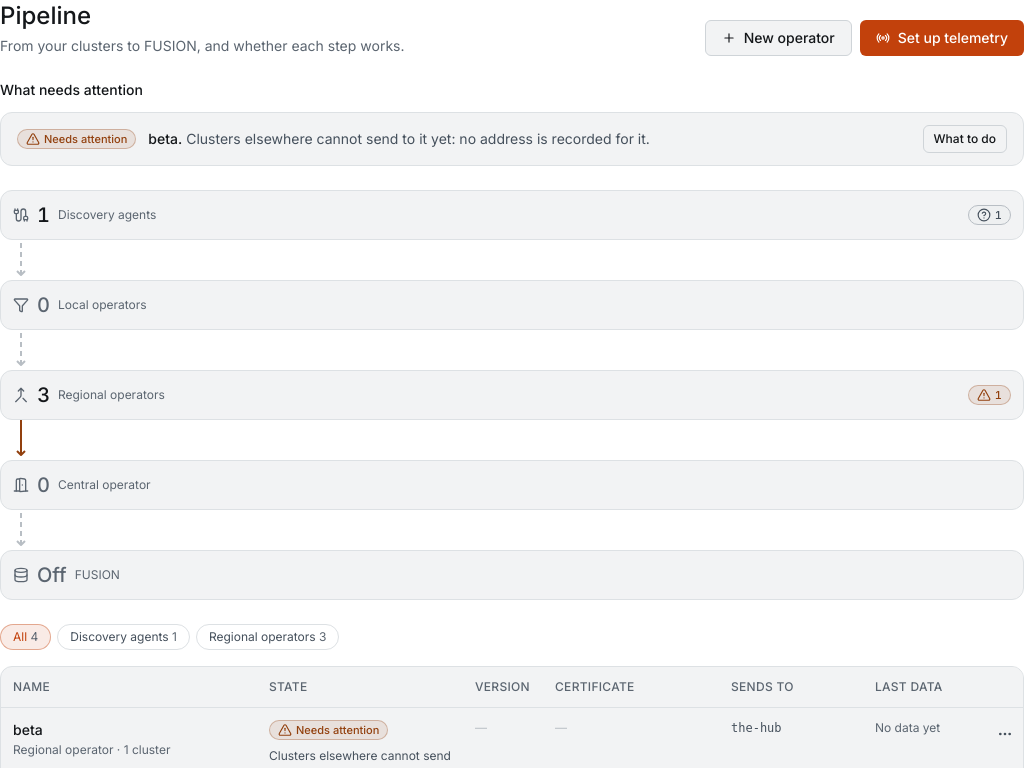
PipelinePage › where an operator sends is a column: FUSION by that name, another operator by its name; its address has a copy button, and a missing one is something to do
This screenshot has width=1024, height=768.
Expected: the element with test id "pipeline-attention" shows "beta. Clusters elsewhere cannot send to it yet", [0, 80, 1023, 166]
Click the button with aria-label "What to do about beta" at {"x": 965, "y": 139}, box [923, 125, 1007, 153]
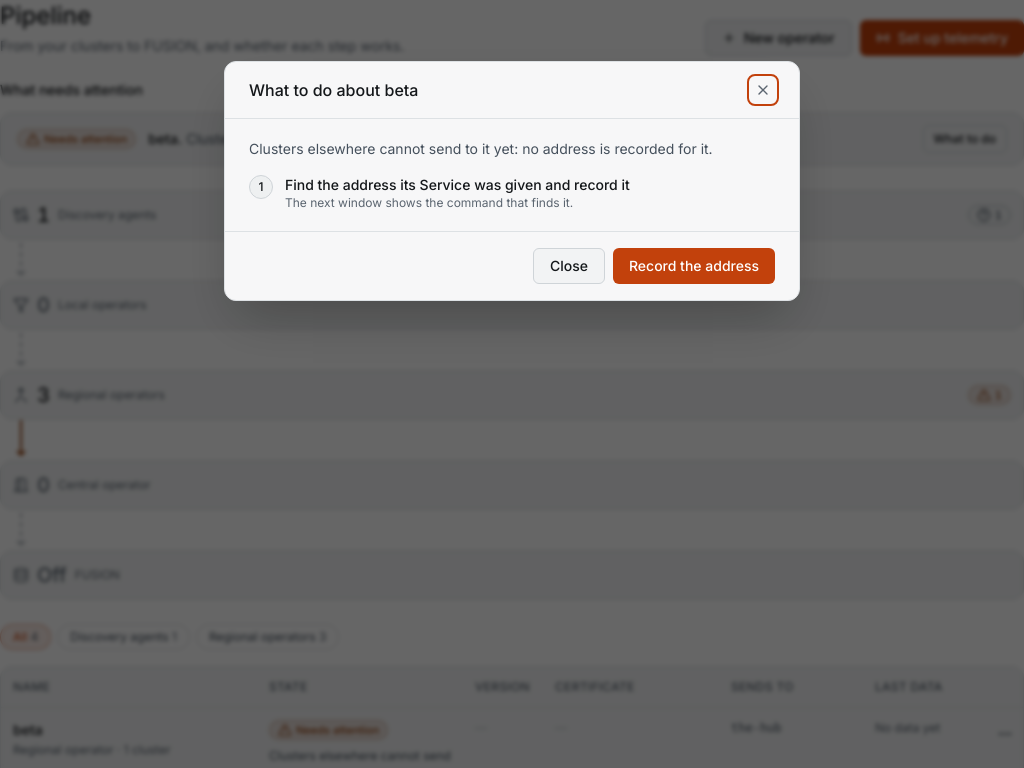
Click the button "Record the address" at {"x": 694, "y": 266}, box [613, 248, 775, 284]
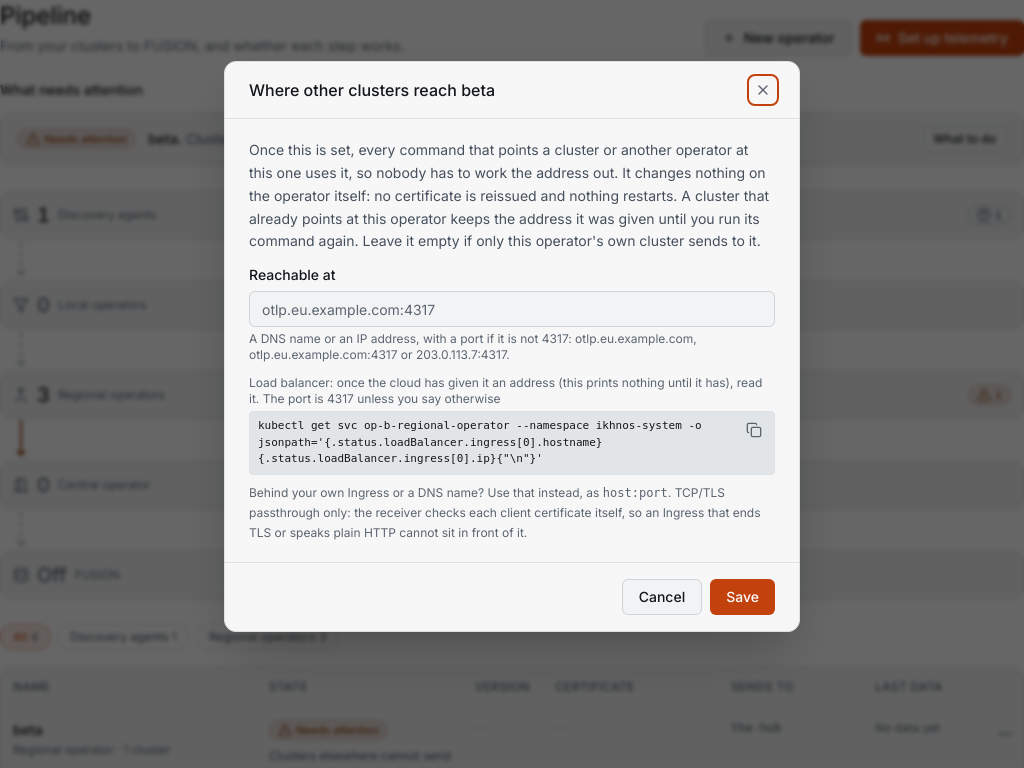
Expected: the field with test id "operator-address-input" is shown, [249, 291, 775, 327]
